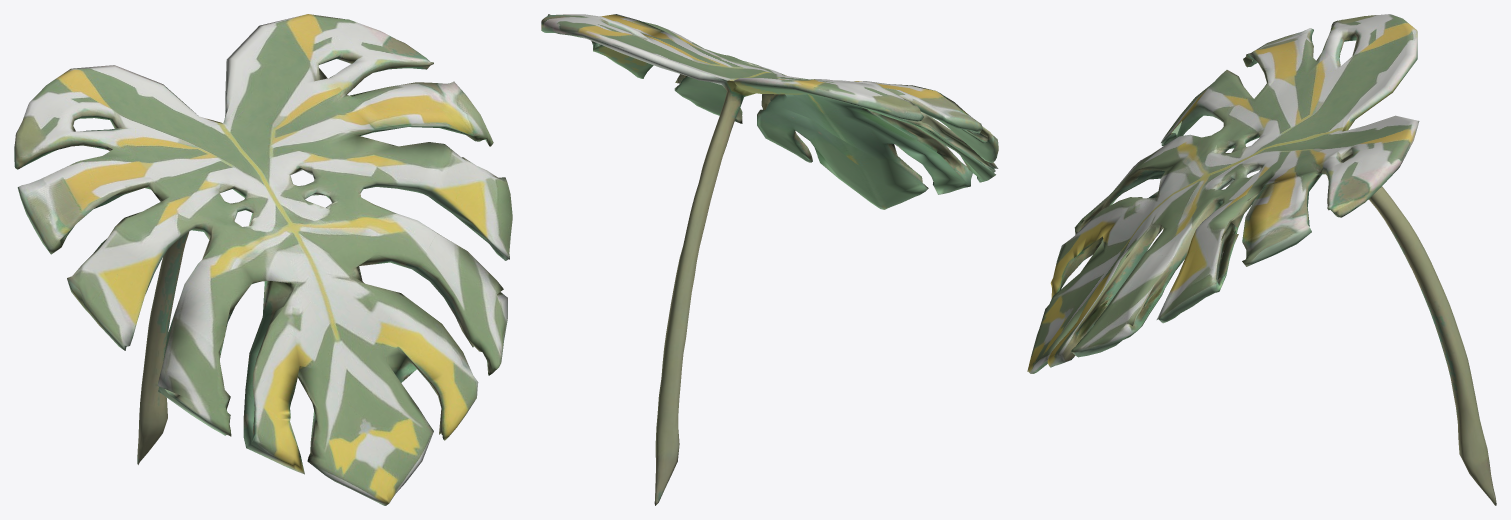
File: mon_star_greenyellow_v2.glb
3 renders of one model, left to right at view 1: azimuth 30°, elevation 25°; view 2: azimuth 150°, elevation 25°; view 3: azimuth 270°, elevation 25°, orthographic. The views are drawn at different scales.
Size of the model in its own units: 2 by 1.95 by 1.94.
Materials: 1 (1 with a texture image).
